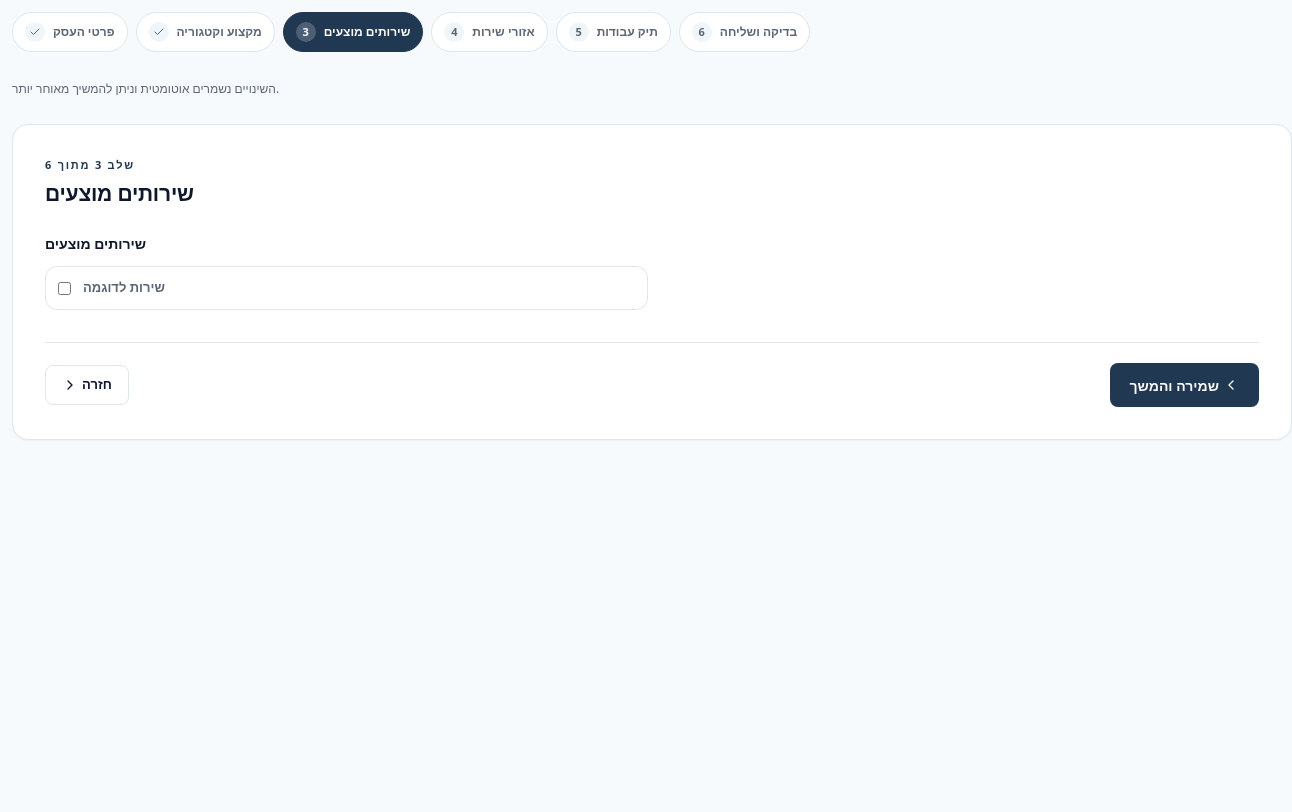
Test: SupplierOnboardingWizard stage validation › moves back without validating or saving an invalid current stage
Click the button "חזרה". click: (87, 385)
box: [45,365,129,405]
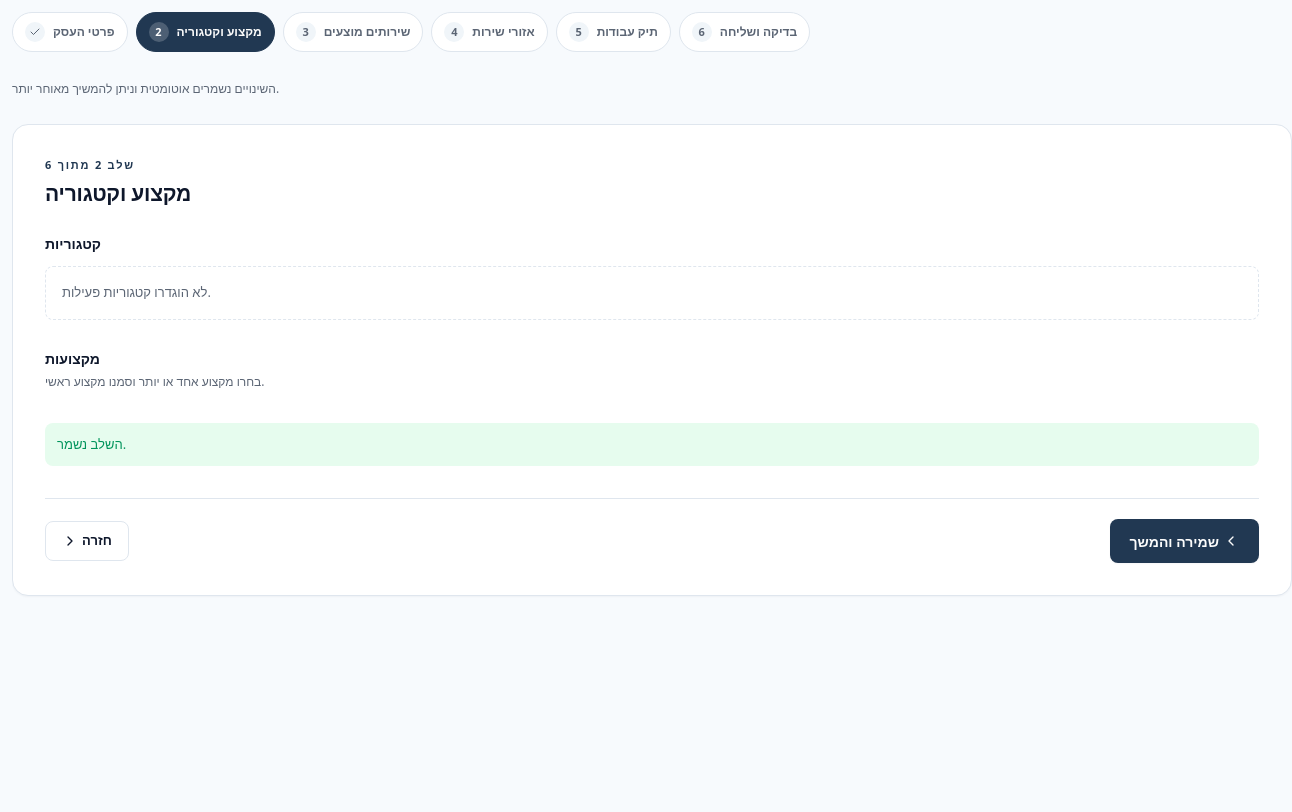
Check: the heading "מקצוע וקטגוריה" is shown, box [45,178,191,206]
